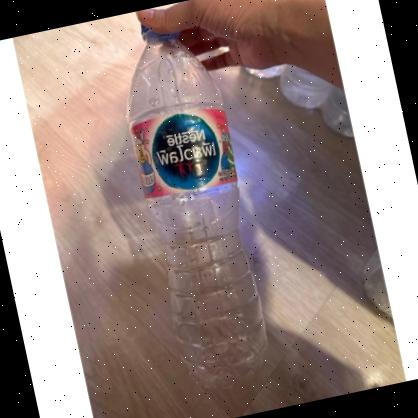bottle: (105, 3, 283, 398)
label: (127, 100, 241, 202)
